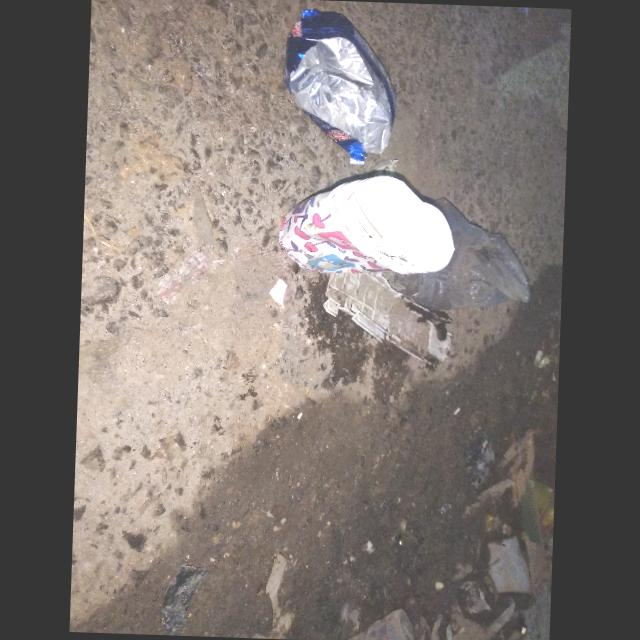trash: (278, 170, 458, 277), (281, 7, 397, 164), (320, 270, 454, 366), (268, 277, 288, 306)
